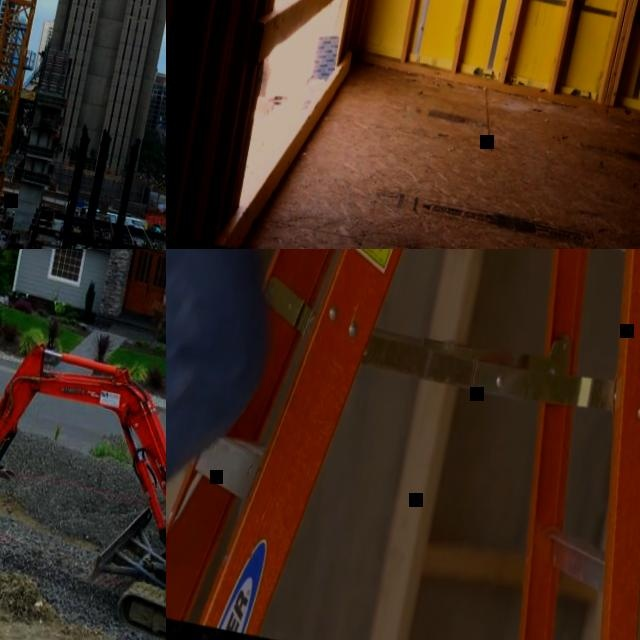Person: (166, 249, 321, 626)
machinery: (0, 330, 166, 640)
